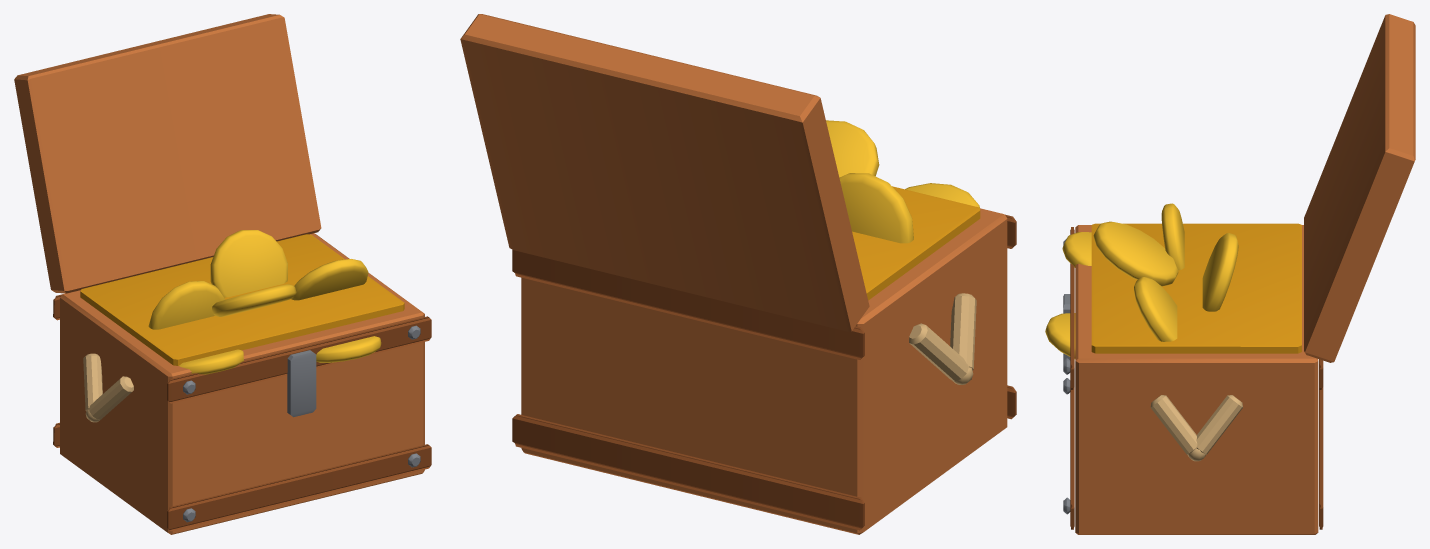
Rendered from cache.glb.
3 renders of one model, left to right at view 1: azimuth 30°, elevation 25°; view 2: azimuth 150°, elevation 25°; view 3: azimuth 270°, elevation 25°, orthographic. The views are drawn at different scales.
Visible parts, largest first — view 1: cache; view 2: cache; view 3: cache.
Boxes of the visible parts, <box> form: cache: <box>14,14,431,534</box>; cache: <box>460,14,1016,534</box>; cache: <box>1045,14,1415,534</box>.
Bounding box in the file's own units: 0.9676 × 1.05 × 0.9146.
